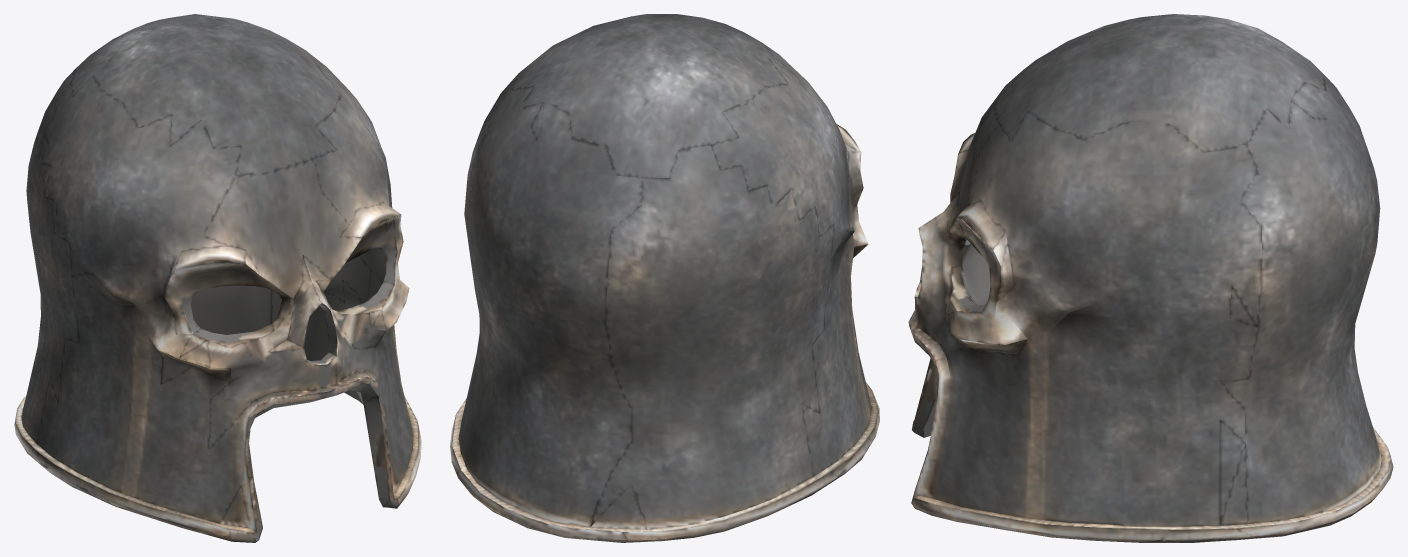
The model's file is item_mm9_10231.glb.
The picture shows the model from 3 angles, left to right: view 1: azimuth 30°, elevation 25°; view 2: azimuth 150°, elevation 25°; view 3: azimuth 270°, elevation 25°; orthographic projection. The views are drawn at different scales.
Parts seen in each view (by area): view 1: d10231; view 2: d10231; view 3: d10231.
Part boxes in pixels (bbox=[...]): d10231: bbox=[14, 14, 421, 542]; d10231: bbox=[450, 14, 879, 542]; d10231: bbox=[908, 14, 1393, 542].
Bounding box in the file's own units: 0.881 × 1 × 0.9955.
1 material, 1 textured.
